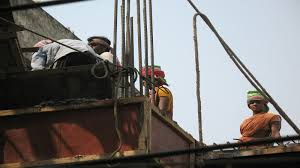arm: (269, 112, 282, 138)
face: (247, 99, 261, 111)
helmet: (245, 92, 267, 110)
human: (232, 89, 284, 144)
vest: (239, 111, 275, 139)
